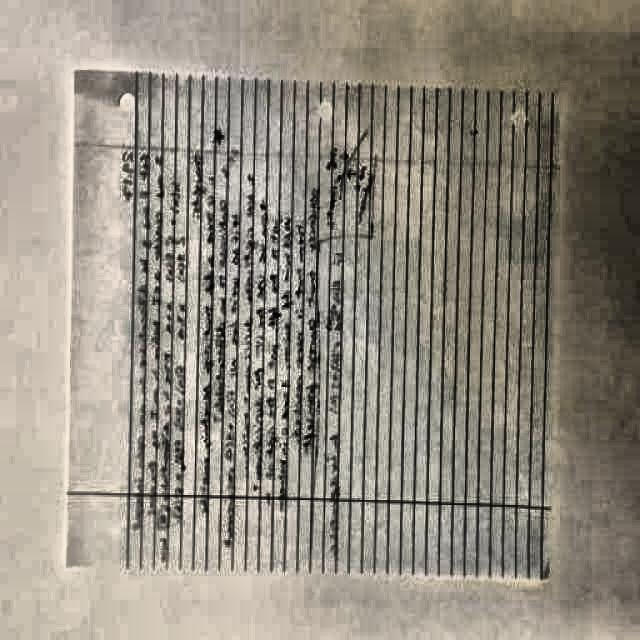Paper: (64, 69, 560, 579)
